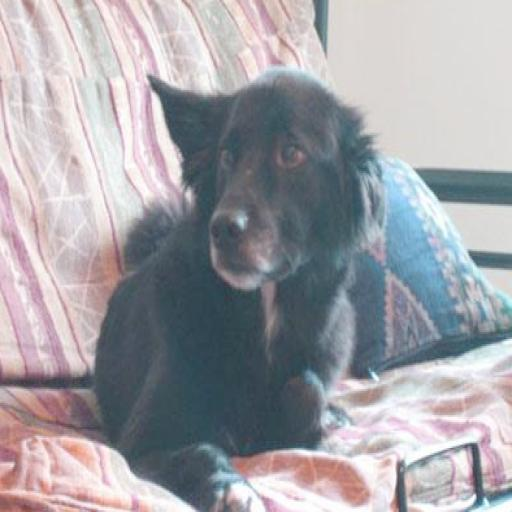dog_face: (164, 60, 393, 298)
